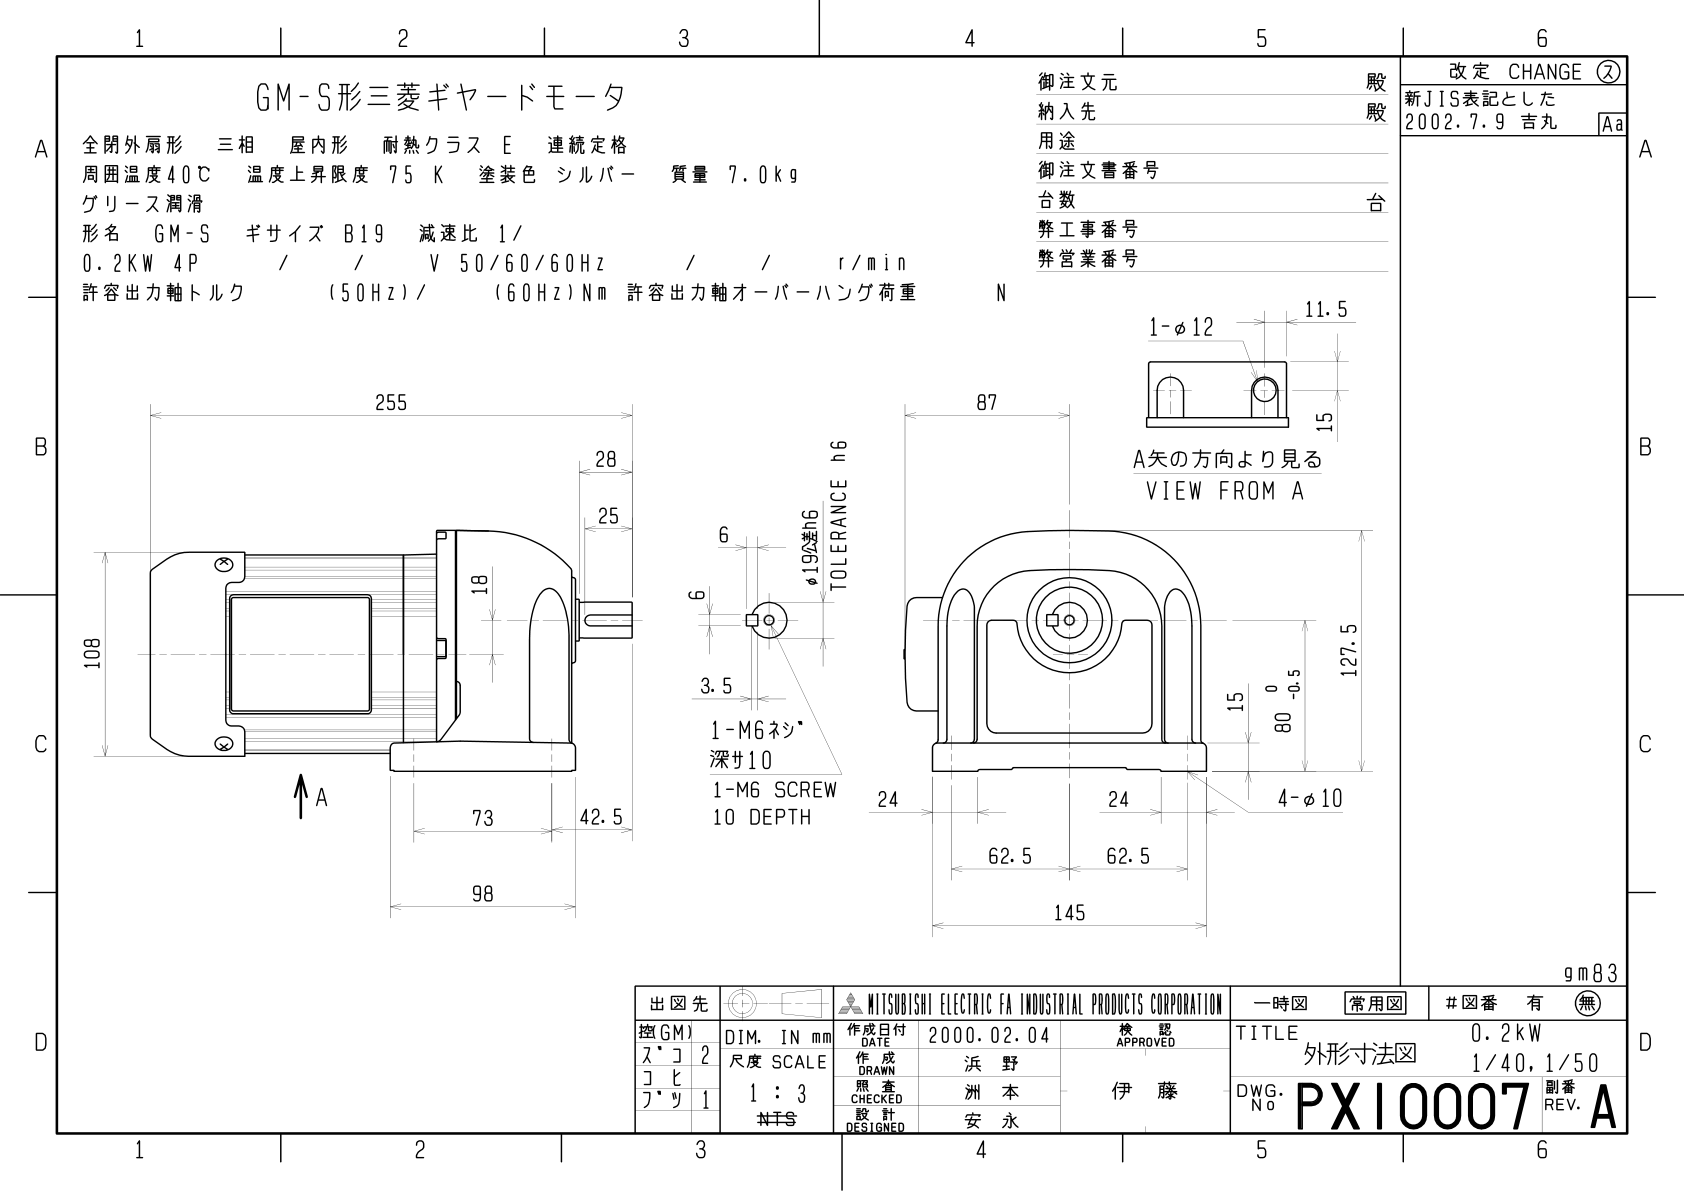GM_S_屋内＿三相_脚: (70, 296, 1383, 963)
